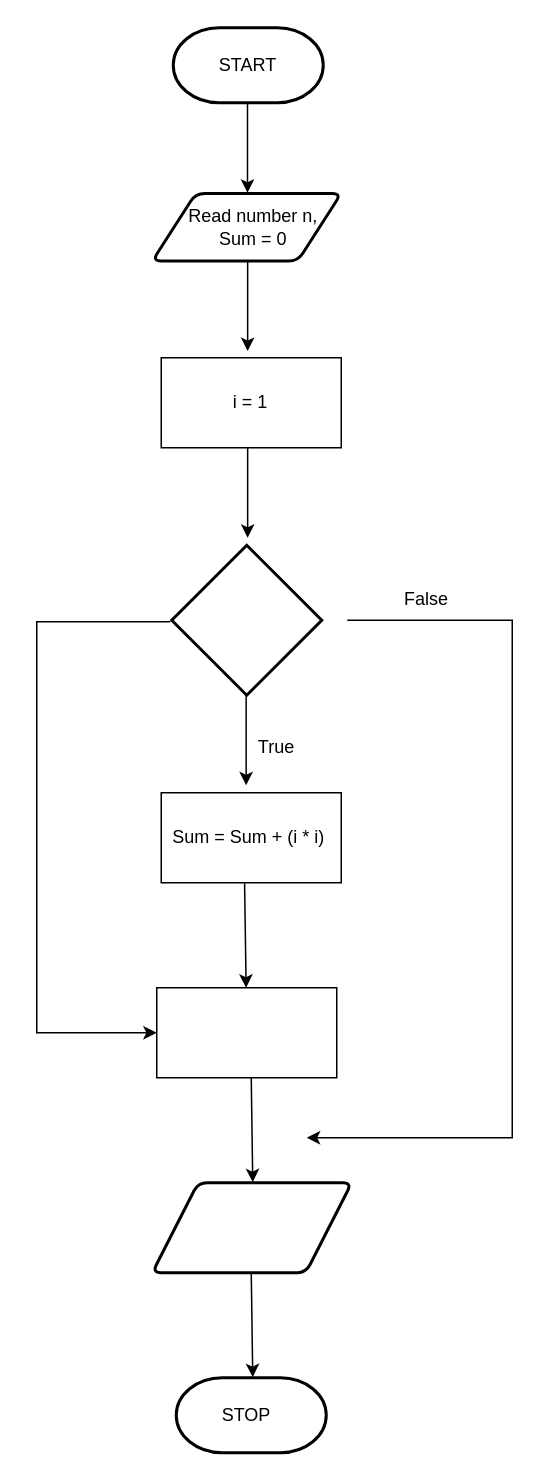
The diagram is 551 pixels wide and 1479 high, and some of its shapes have lost their labels. The shapes that lost their labels are listed below. From the top down, each one's centre as x and y in pixels, then its label:
At (x=246, y=619): "Is i <= n".
At (x=246, y=1032): "i = i + 1".
At (x=251, y=1227): "Print Sum".
